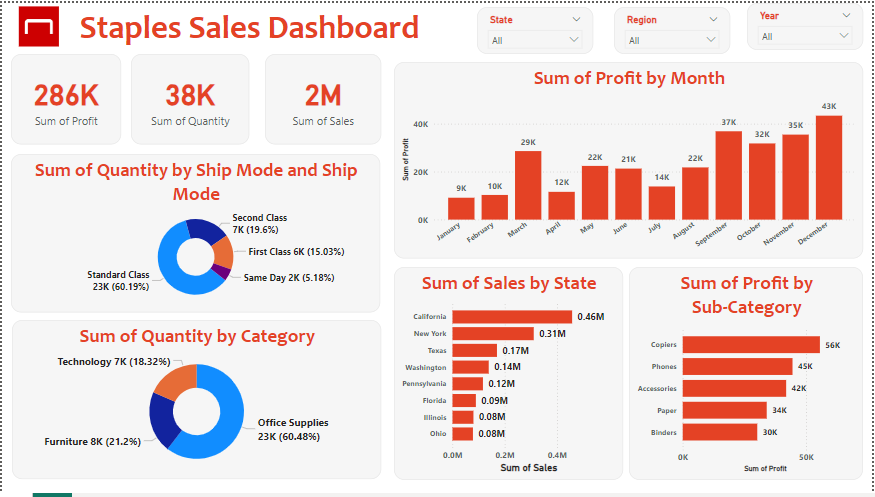

What the dashboard file says about the page in this screenshot:
{"tool":"powerbi","page":{"name":"Page 1","canvas":[1280,720],"ordinal":0},"visuals":[{"type":"textbox","box":[108.3,0,571.6,69.2],"z":0},{"type":"columnChart","fields":{"Y":["Sum(Orders.Profit)"],"Category":["Orders.Order Date.Variation.Date Hierarchy.Month"]},"box":[576.1,87.2,690.4,288.8],"z":1000},{"type":"image","box":[14.6,0,79,68.8],"z":2000},{"type":"barChart","fields":{"Category":["Orders.Sub-Category"],"Y":["Sum(Orders.Profit)"]},"box":[922,388.1,344.4,312.9],"z":3000},{"type":"donutChart","fields":{"Category":["Orders.Category"],"Y":["Sum(Orders.Quantity)"]},"box":[14.6,466.8,542.9,234.1],"z":4000},{"type":"donutChart","fields":{"Series":["Orders.Ship Mode"],"Category":["Orders.Ship Mode"],"Y":["Sum(Orders.Quantity)"]},"box":[13.2,222.4,542.9,232.7],"z":5000},{"type":"card","fields":{"Values":["Sum(Orders.Profit)"]},"box":[13.2,74.6,162.4,133.2],"z":6000},{"type":"card","fields":{"Values":["Sum(Orders.Quantity)"]},"box":[190.2,74.6,174.1,133.2],"z":7000},{"type":"card","fields":{"Values":["Sum(Orders.Sales)"]},"box":[386.3,74.6,171.2,133.2],"z":8000},{"type":"barChart","fields":{"Category":["Orders.State"],"Y":["Sum(Orders.Sales)"]},"box":[575.9,387.6,336.6,313.4],"z":9000},{"type":"slicer","fields":{"Values":["Orders.Order Date.Variation.Date Hierarchy.Year"]},"box":[1095,0,171.5,69.2],"z":10000},{"type":"slicer","fields":{"Values":["Orders.Region"]},"box":[899.5,6,171.5,69.2],"z":11000},{"type":"slicer","fields":{"Values":["Orders.State"]},"box":[697.9,6,171.5,69.2],"z":12000}]}

Visuals, with their boxes in screenshot pixels (x1, y1, x2, y2), scaled from the page's 1280x720 canvas onto the 875x497 screenshot:
textbox: (74,0,465,48)
columnChart - Sum(Orders.Profit) x Orders.Order Date.Variation.Date Hierarchy.Month: (394,60,866,260)
image: (10,0,64,47)
barChart - Orders.Sub-Category x Sum(Orders.Profit): (630,268,866,484)
donutChart - Orders.Category x Sum(Orders.Quantity): (10,322,381,484)
donutChart - Orders.Ship Mode x Orders.Ship Mode: (9,154,380,314)
card - Sum(Orders.Profit): (9,51,120,143)
card - Sum(Orders.Quantity): (130,51,249,143)
card - Sum(Orders.Sales): (264,51,381,143)
barChart - Orders.State x Sum(Orders.Sales): (394,268,624,484)
slicer - Orders.Order Date.Variation.Date Hierarchy.Year: (749,0,866,48)
slicer - Orders.Region: (615,4,732,52)
slicer - Orders.State: (477,4,594,52)
